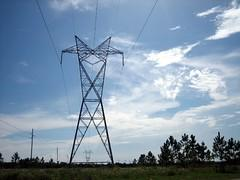power_tower: (58, 34, 126, 167)
